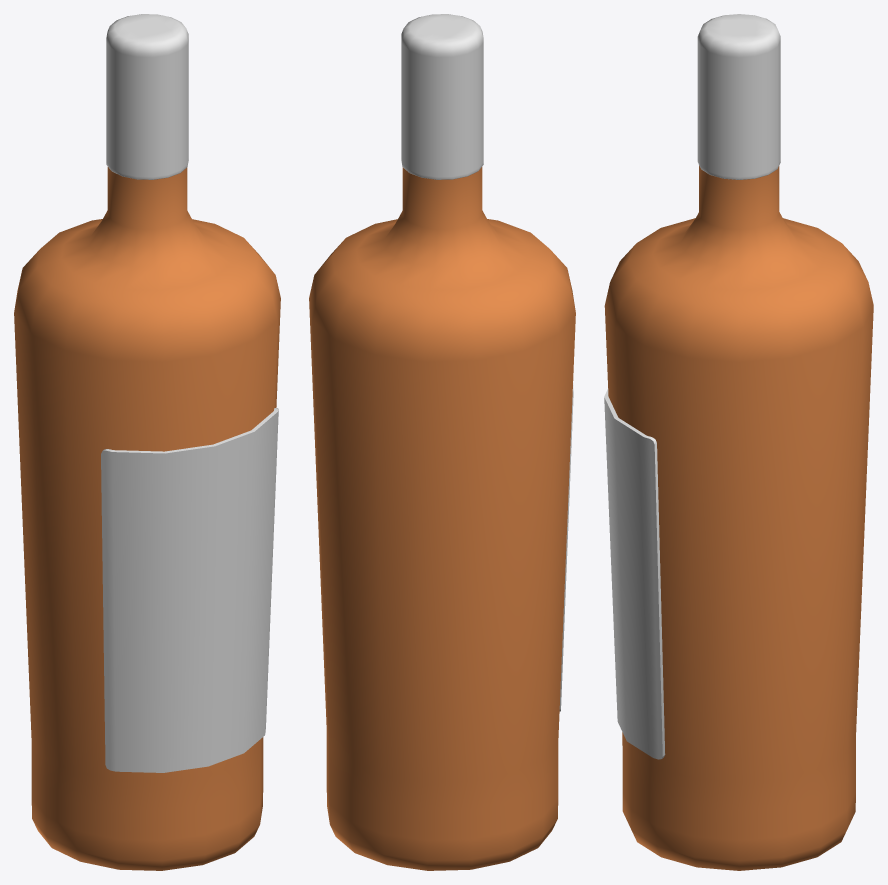
The model's file is MESH_Bottle_I.fbx.
3 renders of one model, left to right at view 1: azimuth 30°, elevation 25°; view 2: azimuth 150°, elevation 25°; view 3: azimuth 270°, elevation 25°, orthographic.
Parts seen in each view (by area): view 1: Bottle_I; view 2: Bottle_I; view 3: Bottle_I.
Part boxes in pixels (<box>): Bottle_I: <box>14,14,280,870</box>; Bottle_I: <box>309,14,575,870</box>; Bottle_I: <box>604,14,873,870</box>.
Size of the model in its own units: 17.25 by 56.71 by 17.29.
